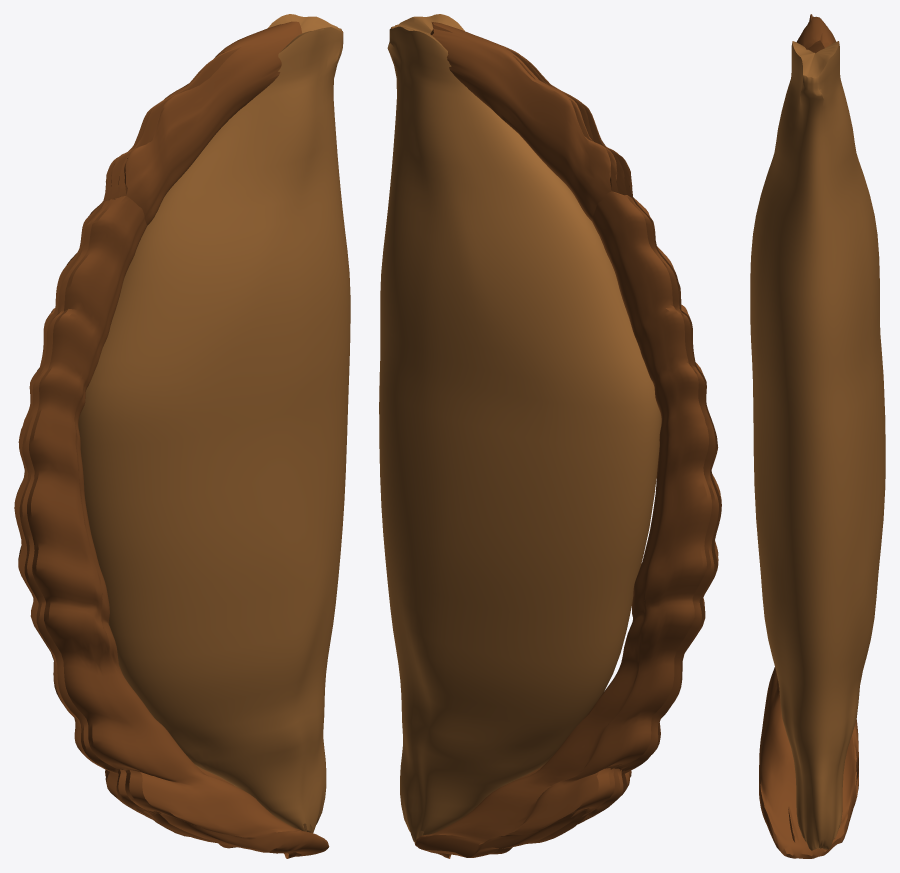
Rendered from EMPANADA3.fbx.
The picture shows the model from 3 angles, left to right: view 1: azimuth 30°, elevation 25°; view 2: azimuth 150°, elevation 25°; view 3: azimuth 270°, elevation 25°; orthographic projection.
Parts seen in each view (by area): view 1: Cylinder, Cylinder.001; view 2: Cylinder, Cylinder.001; view 3: Cylinder, Cylinder.001.
Part boxes in pixels (left/top/right/bottom): Cylinder: left=78, top=14, right=350, bottom=833; Cylinder.001: left=14, top=21, right=329, bottom=858; Cylinder: left=379, top=14, right=661, bottom=842; Cylinder.001: left=414, top=22, right=721, bottom=858; Cylinder: left=750, top=41, right=885, bottom=850; Cylinder.001: left=759, top=14, right=858, bottom=858.
Size of the model in its own units: 150 by 358 by 53.68.
